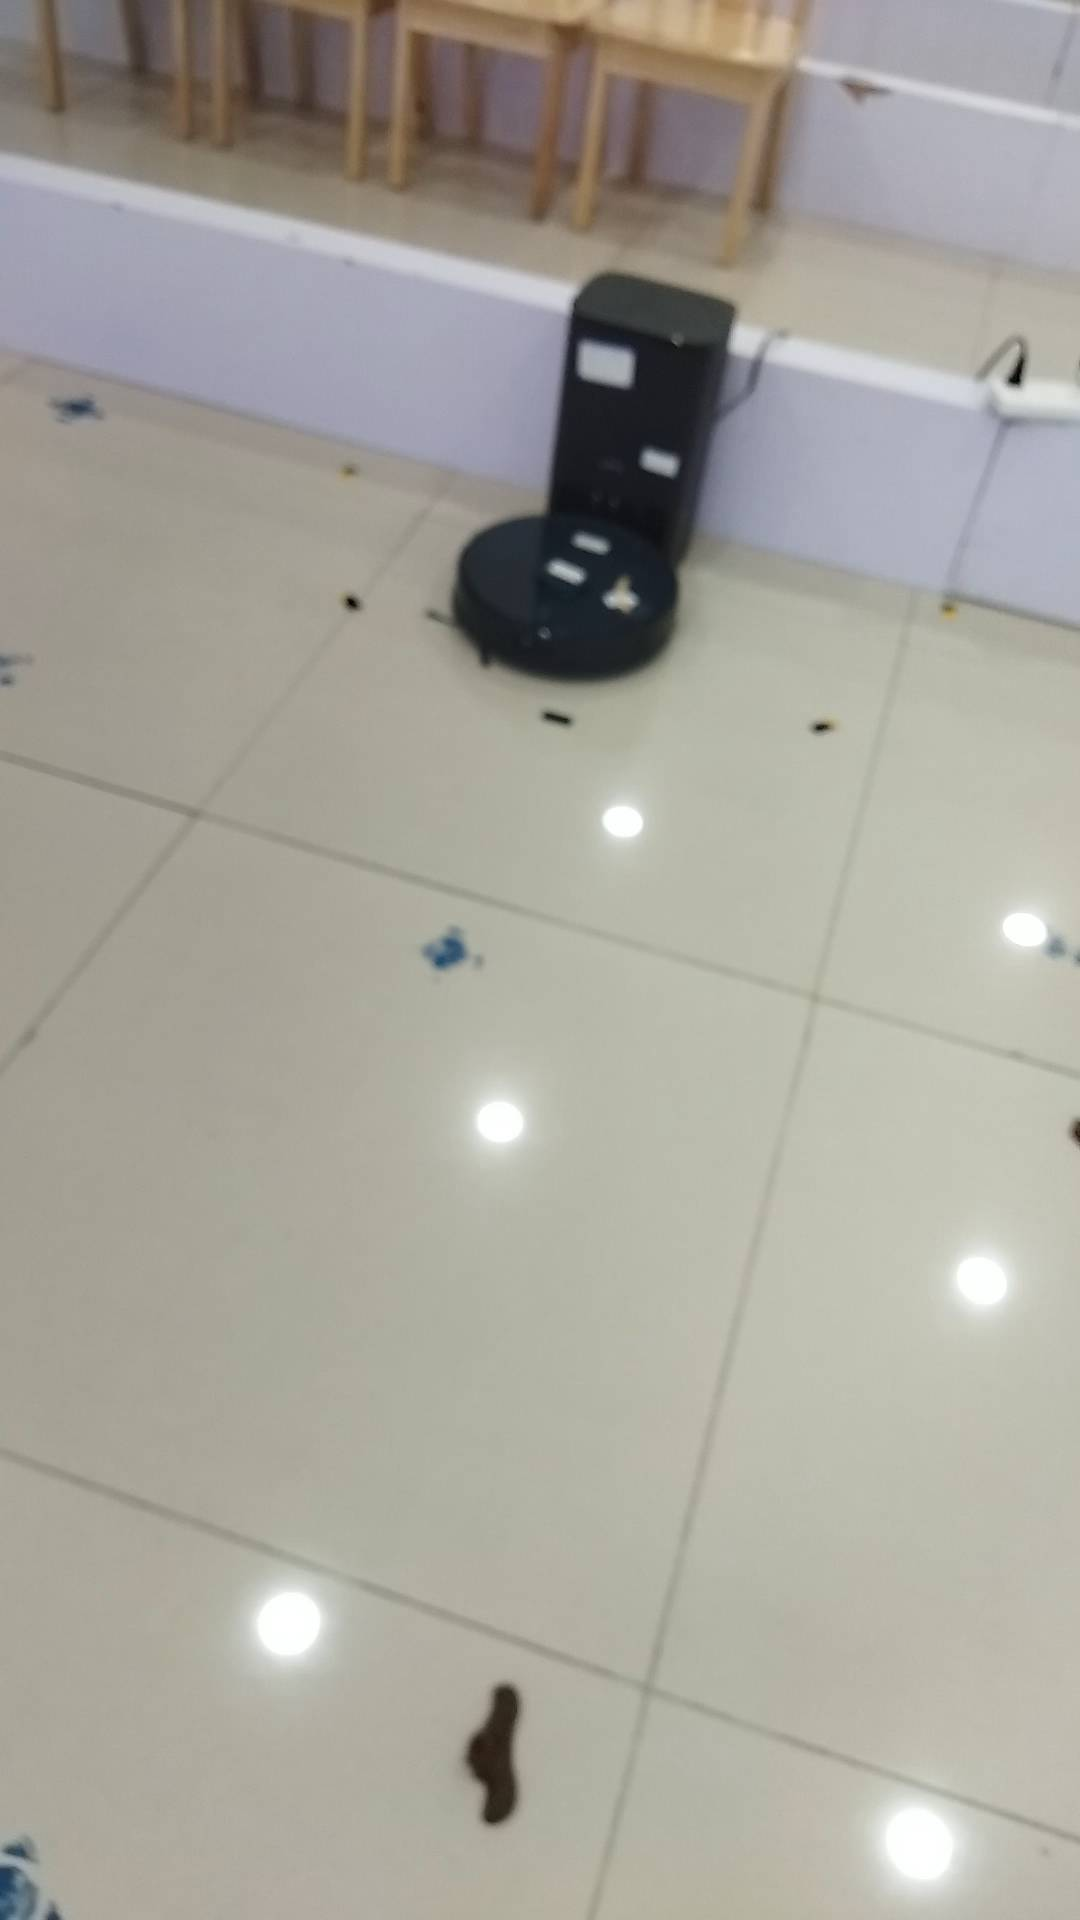dust collecting barrel: (550, 272, 740, 563)
